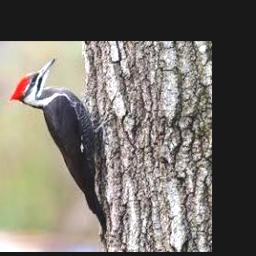Woodpecker: (9, 57, 111, 240)
